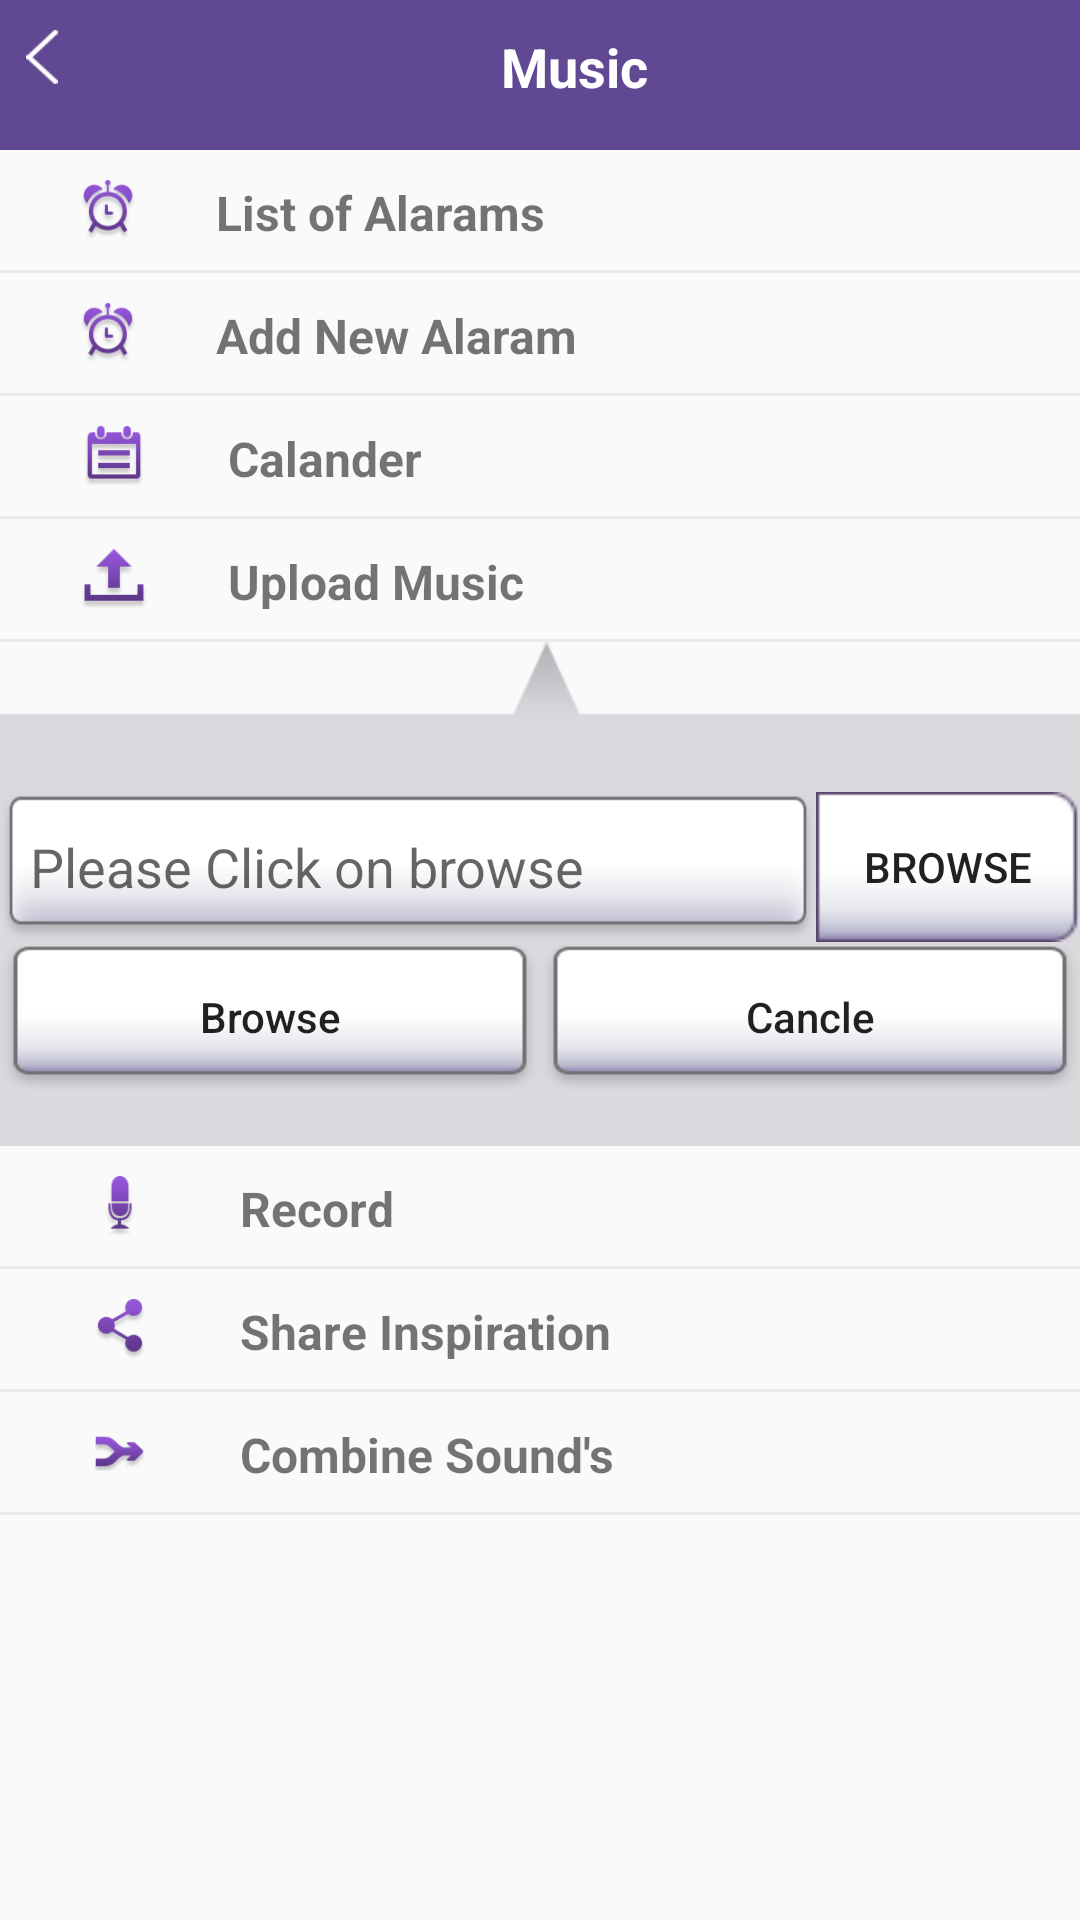

Locate icon controls on the screen. Image size 1080×1920, boxes as (x1, y1, x2, y2).
alarm: (83, 180, 133, 235), (83, 303, 133, 358)
back arrow: (26, 30, 58, 84)
calendar: (87, 426, 141, 483)
merge: (95, 1436, 144, 1470)
microphone: (108, 1176, 132, 1233)
upload file: (84, 549, 144, 606)
